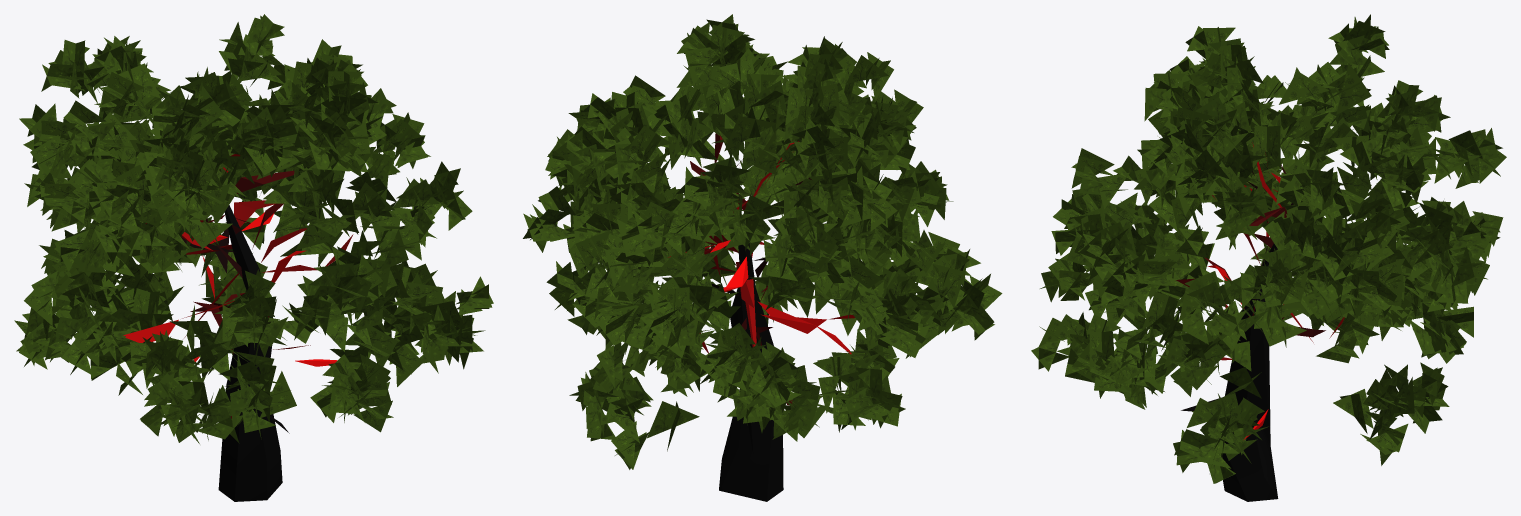
Rendered from oak7 lod3.FBX.
3 views of the same model, side by side, from view 1: azimuth 30°, elevation 25°; view 2: azimuth 150°, elevation 25°; view 3: azimuth 270°, elevation 25° (orthographic). The views are drawn at different scales.
Visible parts, largest first — view 1: oak7_LOD3; view 2: oak7_LOD3; view 3: oak7_LOD3.
Boxes of the visible parts, left/top/right/bottom form: oak7_LOD3: left=14, top=14, right=493, bottom=501; oak7_LOD3: left=523, top=14, right=1002, bottom=501; oak7_LOD3: left=1031, top=14, right=1506, bottom=501.
Bounding box in the file's own units: 191042 × 201442 × 203640.
